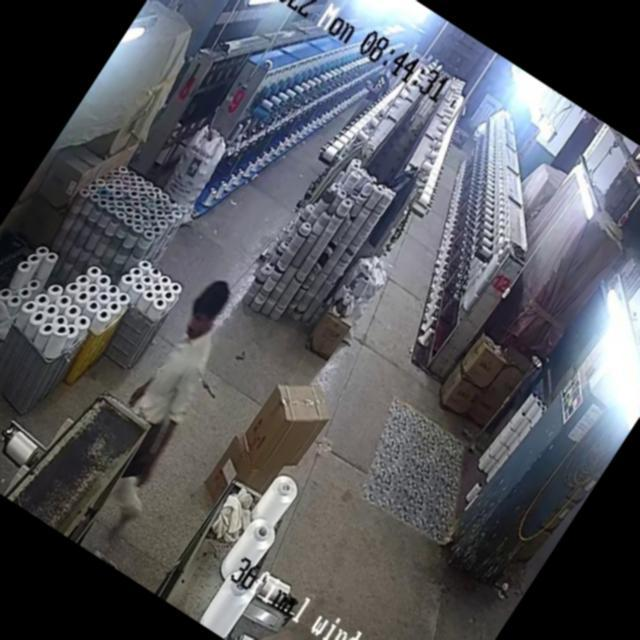person: (126, 270, 256, 430)
